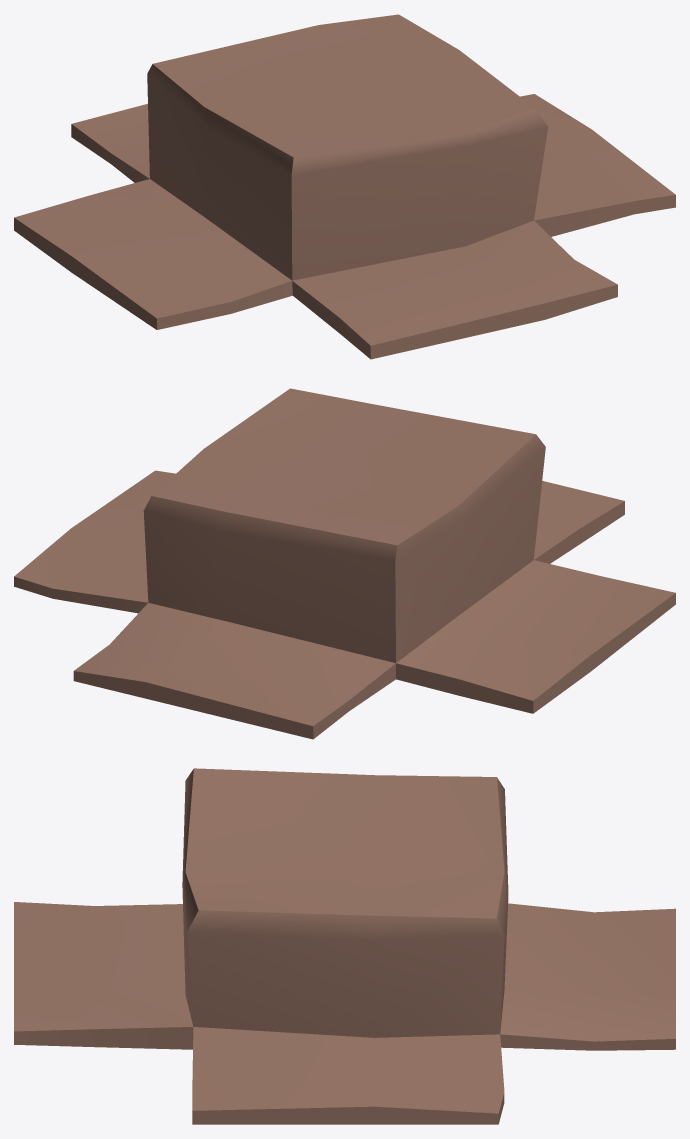
Rendered from CardboardBox_Model_SC.fbx.
3 renders of one model, top to bottom at view 1: azimuth 30°, elevation 25°; view 2: azimuth 150°, elevation 25°; view 3: azimuth 270°, elevation 25°, orthographic. The views are drawn at different scales.
Visible parts, largest first — view 1: pCube1; view 2: pCube1; view 3: pCube1.
Part boxes in pixels (x1,y1,x2,y2): pCube1: (14, 14, 675, 359); pCube1: (14, 388, 675, 739); pCube1: (14, 768, 675, 1124).
Bounding box in the file's own units: 2.04 × 0.5344 × 2.08.
